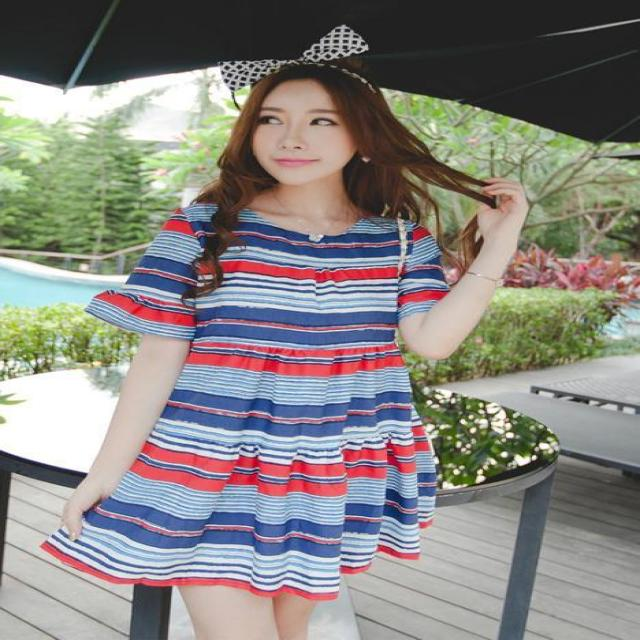short sleeve dress: (42, 199, 454, 598)
